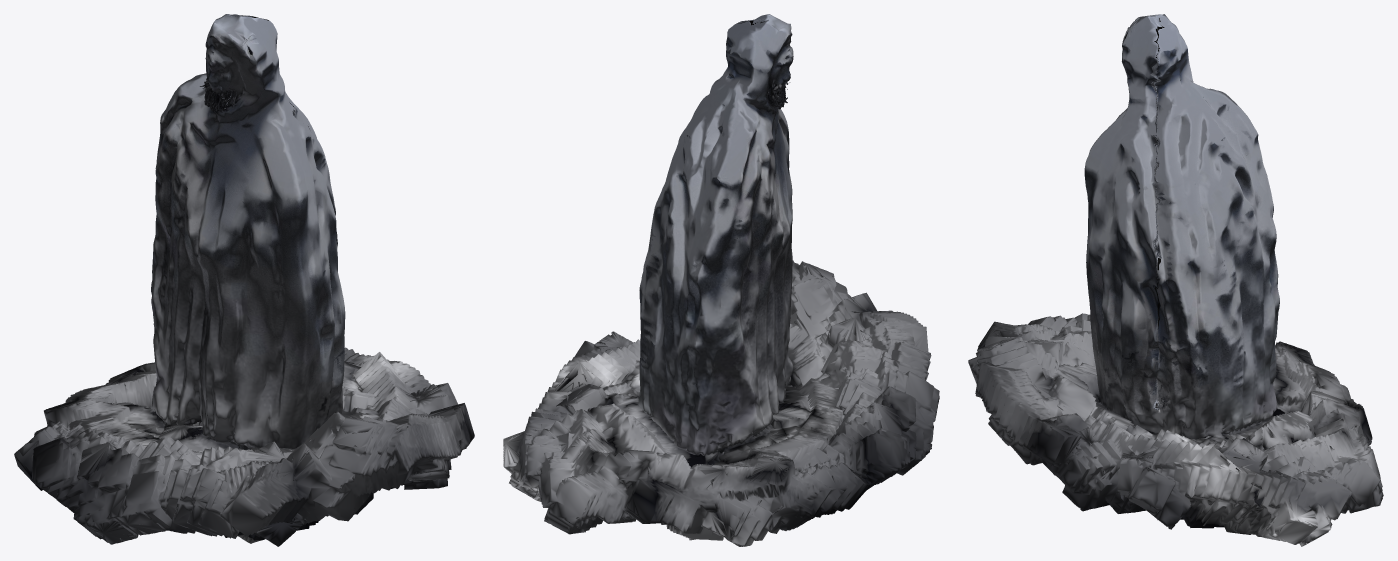
Rendered from monk_uv.glb.
3 renders of one model, left to right at view 1: azimuth 30°, elevation 25°; view 2: azimuth 150°, elevation 25°; view 3: azimuth 270°, elevation 25°, orthographic. The views are drawn at different scales.
Size of the model in its own units: 1.58 by 2 by 1.65.
Materials: 1 (1 with a texture image).
